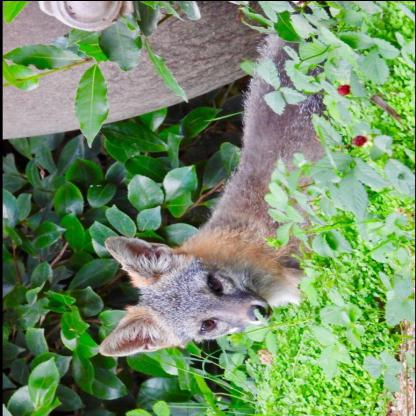zorro: (97, 0, 341, 360)
